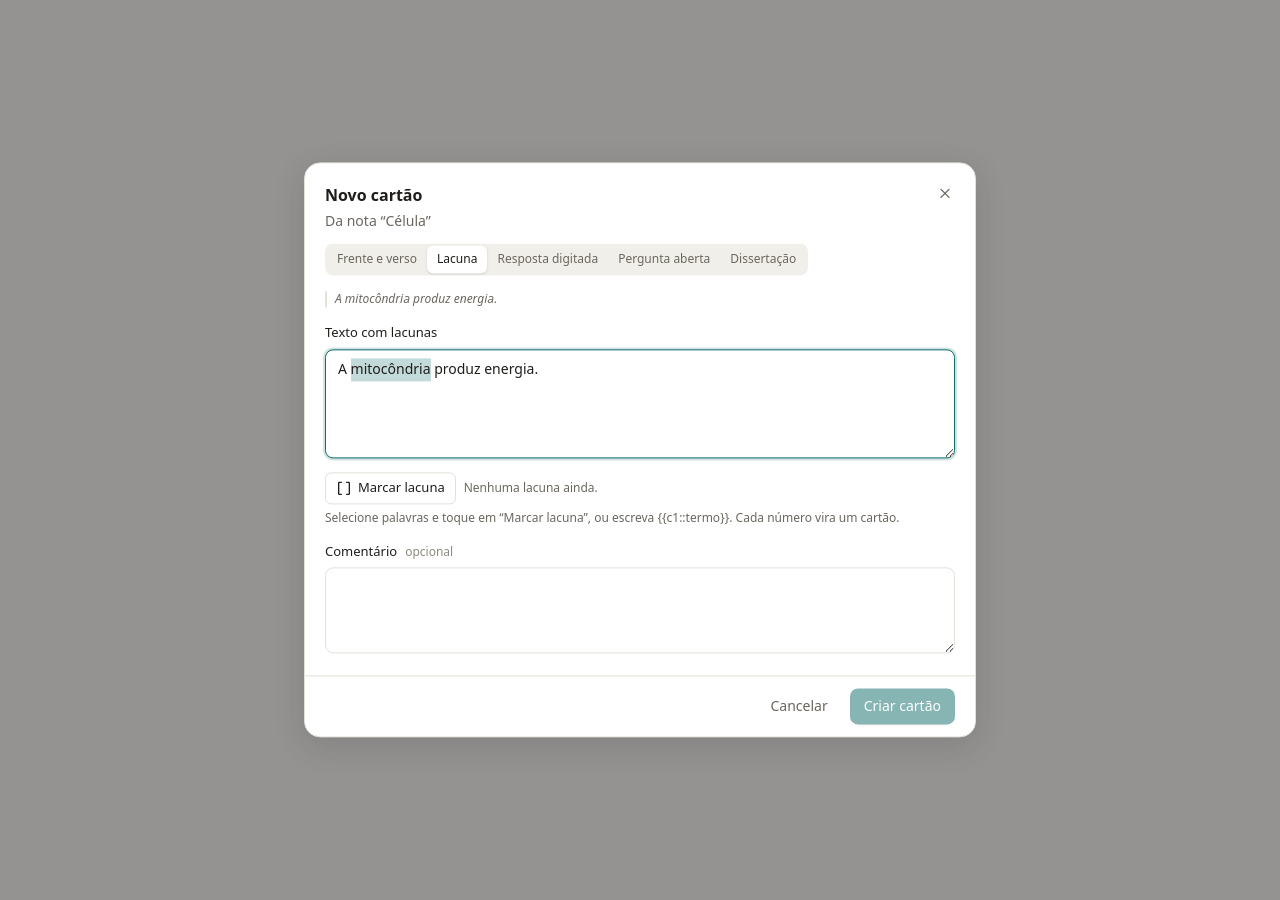
Test: review dialogs › a cloze text gets its blanks from the selection and creates one card per number
Click the button "Marcar lacuna": (390, 488) [325, 472, 456, 504]
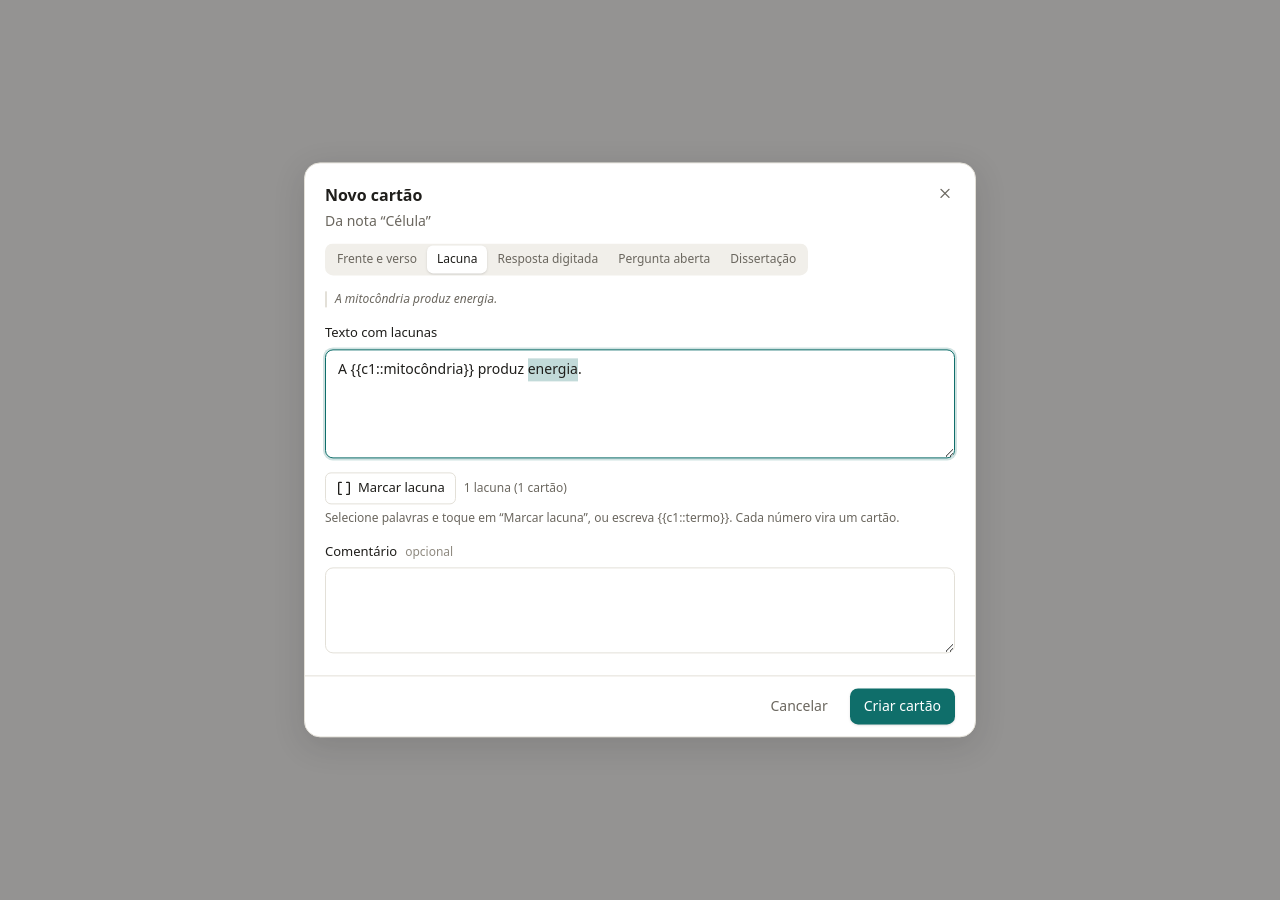
Check: the text box labelled "Texto com lacunas" holds "A {{c1::mitocôndria}} produz energia.", box [325, 349, 955, 458]
Click the button "Marcar lacuna": (390, 488) [325, 472, 456, 504]
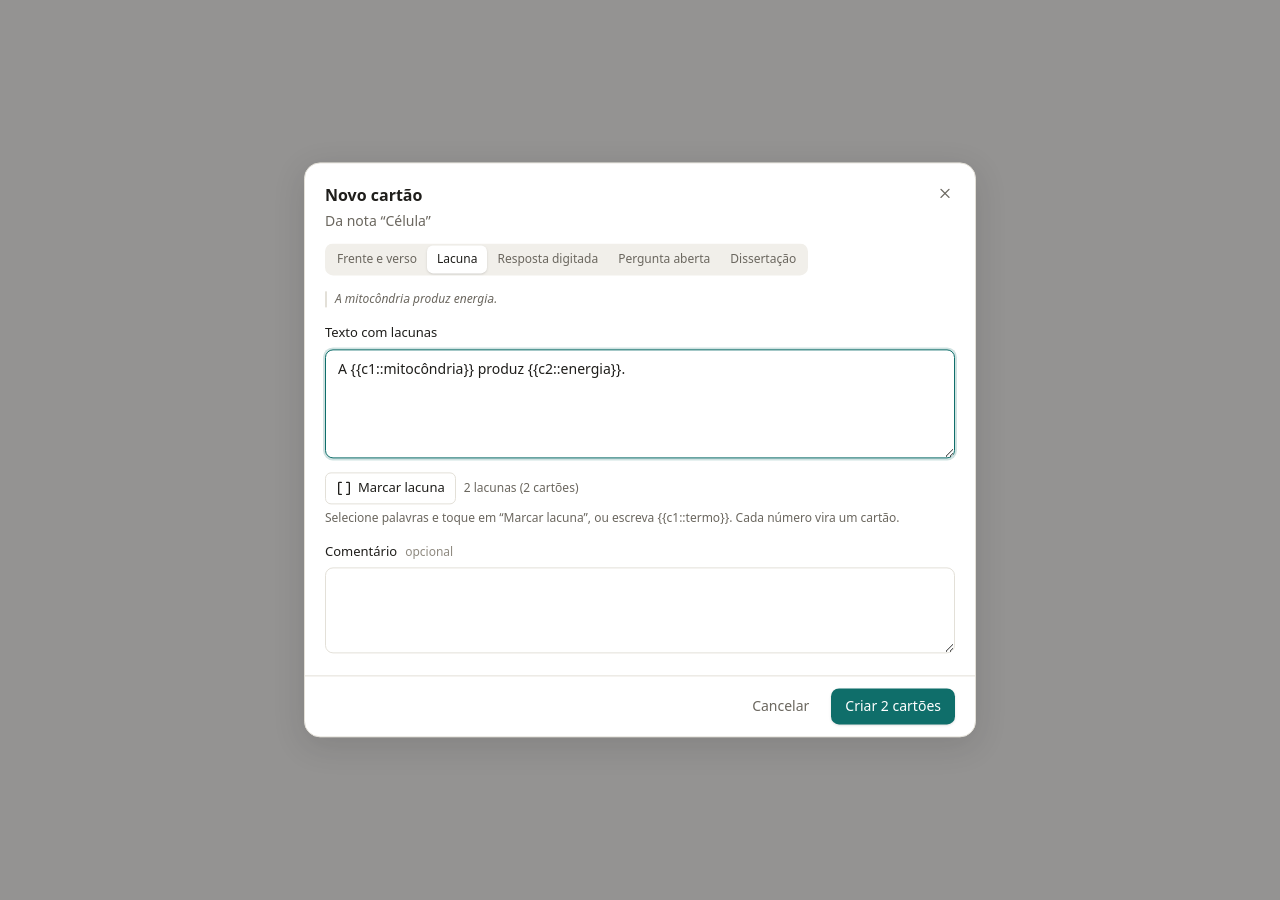
Check: the text box labelled "Texto com lacunas" holds "A {{c1::mitocôndria}} produz {{c2::energia}}.", box [325, 349, 955, 458]
Check: the button "Criar 2 cartões" is shown, box [831, 689, 955, 725]
